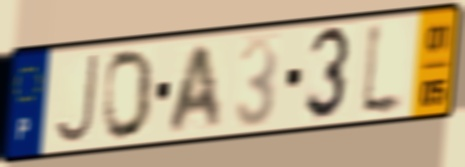3: (300, 23, 357, 125), (234, 33, 281, 130)
A: (165, 40, 224, 136)
J: (51, 51, 101, 147)
L: (358, 16, 408, 122)
O: (101, 46, 156, 144)
